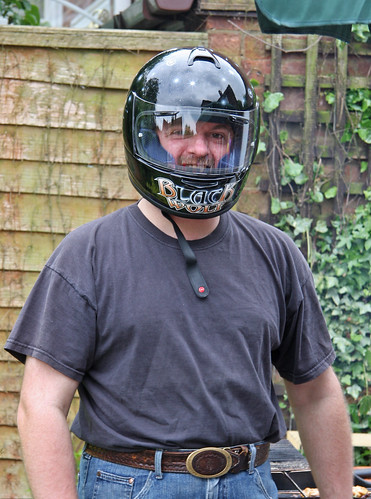helmet: (111, 34, 264, 225)
